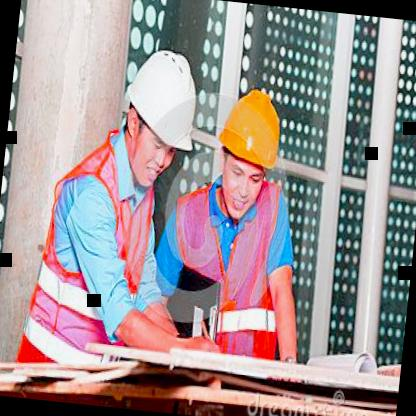helmet: (103, 24, 214, 206), (204, 70, 292, 230)
